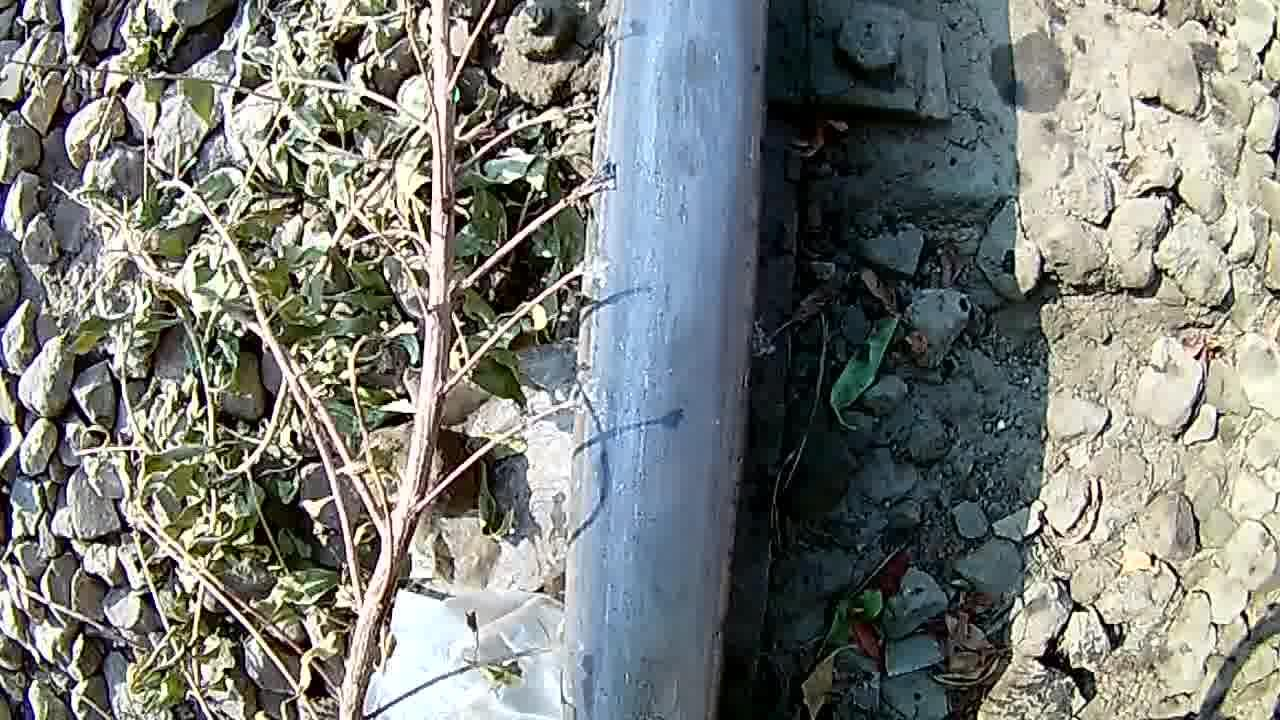bolt_missing: (611, 3, 746, 720)
